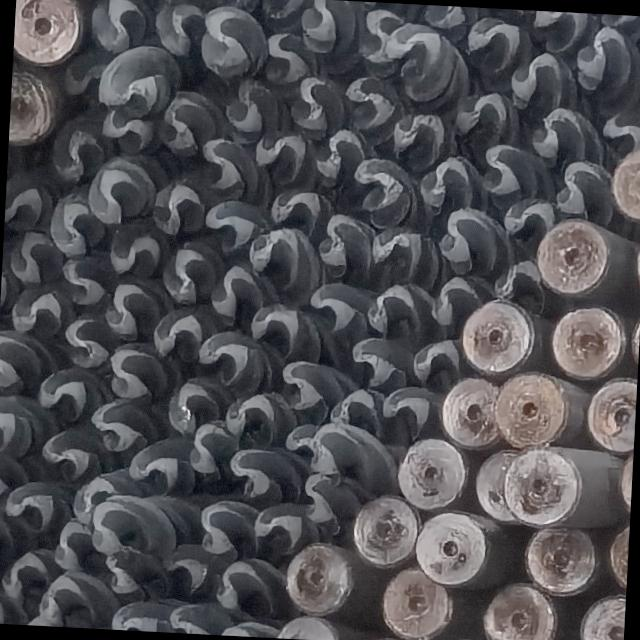tool: (535, 220, 633, 302), (496, 368, 592, 448), (416, 512, 496, 590), (548, 305, 629, 381), (373, 566, 453, 640), (513, 447, 586, 528), (462, 302, 538, 378), (522, 528, 599, 600), (396, 438, 466, 511), (350, 496, 417, 572), (286, 544, 356, 616), (475, 578, 556, 640), (472, 459, 534, 531), (13, 0, 82, 63), (442, 377, 502, 449), (8, 67, 52, 156), (588, 372, 638, 438), (610, 144, 640, 223), (580, 590, 626, 640), (606, 522, 630, 592), (275, 616, 342, 640), (622, 452, 634, 502)
tool_b: (570, 22, 640, 107), (379, 10, 454, 88), (100, 44, 182, 115), (334, 158, 414, 230), (244, 224, 324, 296), (520, 108, 607, 171), (328, 334, 416, 394), (197, 7, 267, 82), (160, 92, 234, 162), (195, 329, 274, 394), (438, 205, 512, 274), (88, 154, 158, 226), (32, 570, 116, 630), (225, 73, 296, 143), (228, 448, 310, 506), (210, 556, 289, 616), (414, 152, 488, 216), (205, 262, 279, 326), (38, 420, 111, 484), (479, 142, 553, 205), (90, 396, 170, 454), (376, 384, 446, 448), (162, 237, 225, 308), (250, 302, 324, 362), (50, 106, 108, 182), (36, 364, 106, 426), (510, 53, 581, 114), (87, 0, 167, 53), (316, 210, 378, 278), (277, 359, 346, 420), (129, 436, 199, 496), (366, 282, 437, 341), (4, 160, 62, 232), (103, 276, 170, 338), (288, 76, 350, 142), (299, 0, 367, 60), (308, 280, 378, 338), (453, 89, 519, 150), (222, 390, 296, 444), (250, 500, 320, 557), (4, 482, 75, 538), (342, 74, 403, 139), (166, 378, 232, 438), (197, 137, 260, 199), (390, 111, 453, 173), (107, 216, 169, 278), (553, 158, 615, 220), (203, 196, 269, 254), (466, 16, 532, 74), (1, 230, 63, 291), (195, 500, 258, 560), (252, 132, 318, 189), (47, 194, 107, 256), (314, 127, 374, 189), (0, 329, 56, 395), (90, 488, 145, 554), (434, 273, 496, 331), (0, 394, 55, 459), (108, 339, 168, 398), (189, 421, 239, 486), (264, 32, 322, 88), (157, 540, 210, 600), (0, 545, 51, 607), (153, 182, 210, 237), (12, 288, 74, 338), (302, 420, 352, 482), (296, 474, 351, 530), (59, 250, 113, 306), (153, 0, 207, 55), (410, 336, 466, 388), (506, 197, 560, 250), (150, 310, 204, 362), (352, 12, 402, 68), (539, 11, 603, 53), (62, 316, 112, 369), (70, 473, 119, 524), (58, 65, 114, 108), (48, 518, 94, 570), (335, 386, 381, 436), (101, 554, 148, 602), (166, 604, 232, 636), (109, 598, 170, 632), (236, 0, 310, 28), (492, 260, 540, 302), (0, 448, 36, 500), (406, 4, 480, 28), (608, 104, 640, 158), (218, 620, 282, 638), (0, 499, 16, 565)
